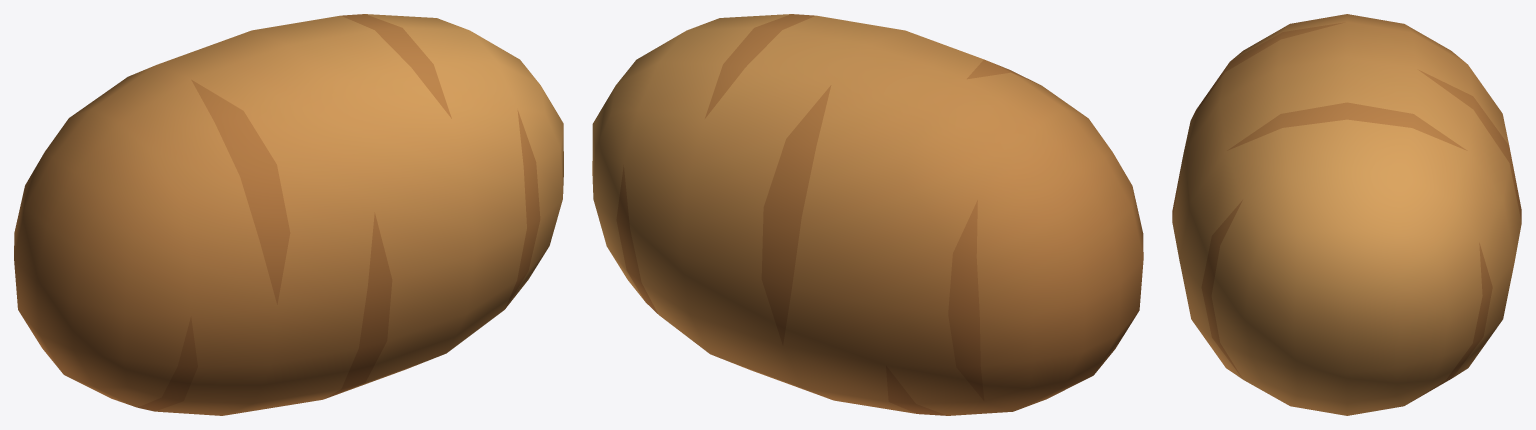
File: Potato_01.glb
3 renders of one model, left to right at view 1: azimuth 30°, elevation 25°; view 2: azimuth 150°, elevation 25°; view 3: azimuth 270°, elevation 25°, orthographic. The views are drawn at different scales.
Parts seen in each view (by area): view 1: Potato_01; view 2: Potato_01; view 3: Potato_01.
Part boxes in pixels (x1,y1,x2,y2): Potato_01: [14, 14, 563, 415]; Potato_01: [592, 14, 1143, 415]; Potato_01: [1172, 14, 1521, 415].
Bounding box in the file's own units: 0.3041 × 0.1942 × 0.1927.
1 material, 1 textured.
